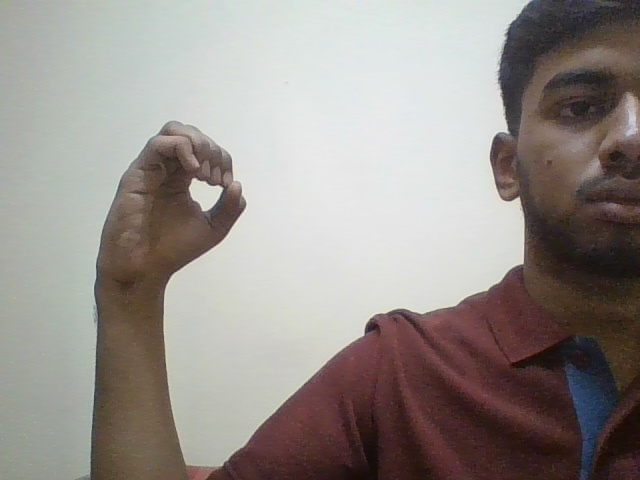O: (67, 109, 290, 301)
